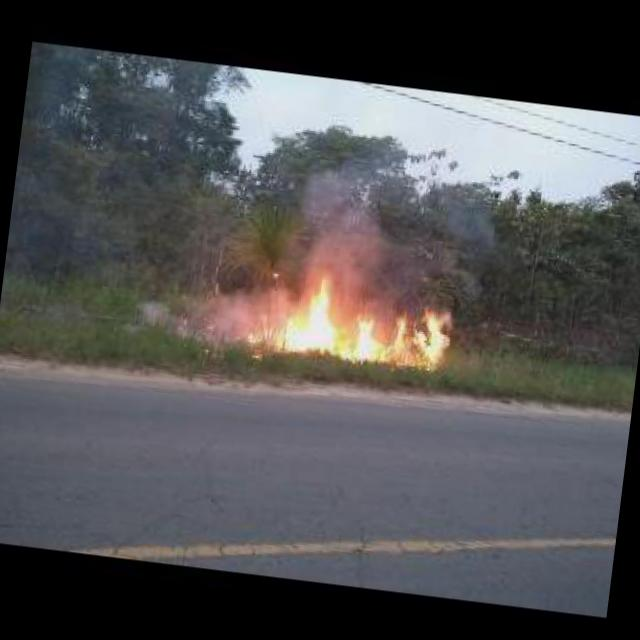fire: (276, 262, 456, 376)
smoke: (278, 137, 502, 314), (114, 268, 287, 364)
